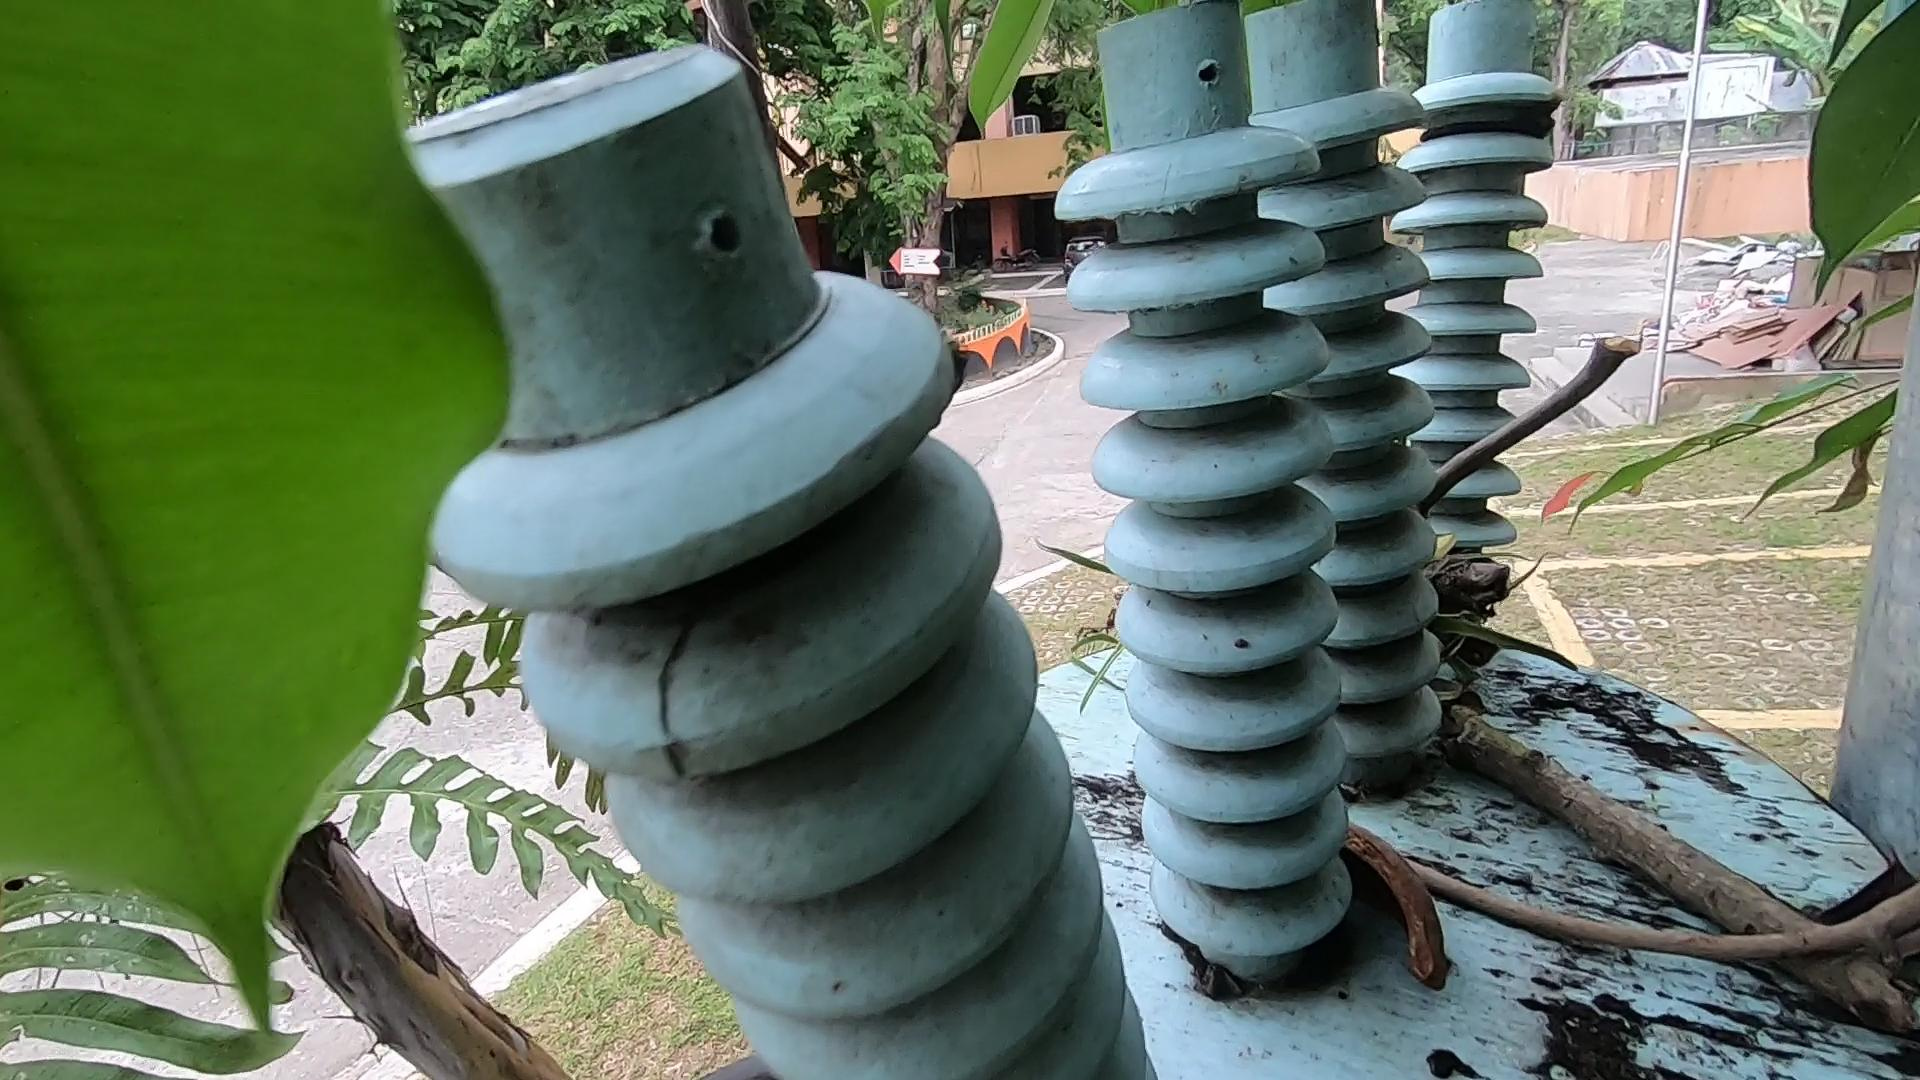branch with leaves: (1387, 611, 1917, 1054)
leaf: (1804, 873, 1920, 1000)
tree branch: (1345, 778, 1883, 1000), (1374, 305, 1745, 580)
